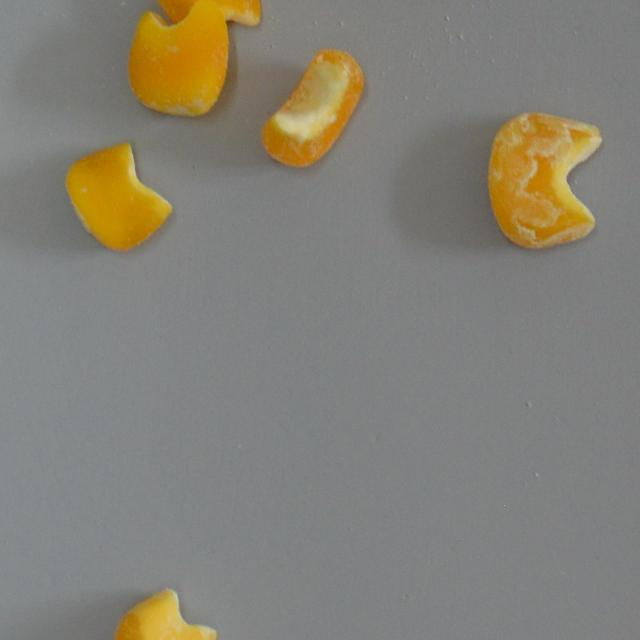no_canjicado: (128, 0, 232, 117), (63, 143, 173, 252), (112, 586, 216, 640), (152, 0, 264, 34)
pelicula: (482, 112, 606, 252), (279, 44, 353, 174)
